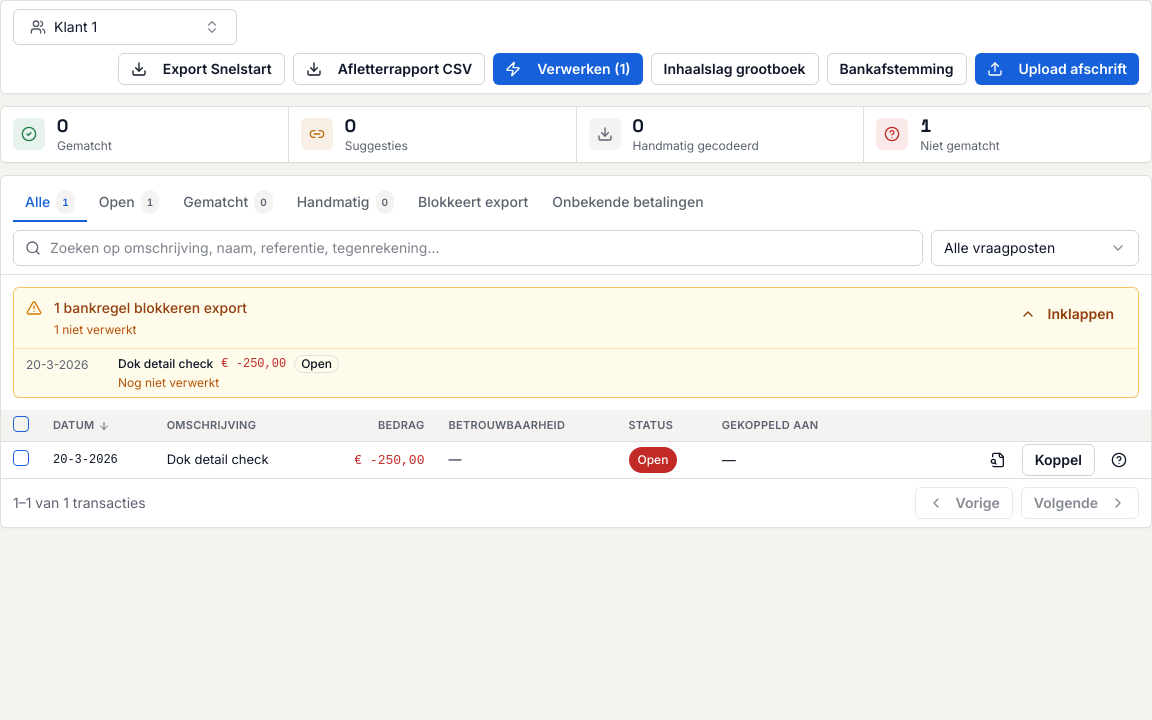
Test: Bank pagina UI — brede desktop (>= 1800px) gebruikt ook de detail-Sheet › toont geen vast dok en opent de transactiedetails in de Sheet
This screenshot has width=1152, height=720.
Step 1. Click the row "20-3-2026 Dok detail check € -250,00 — Open — Koppel" → [85, 460], box [1,442,1151,478]
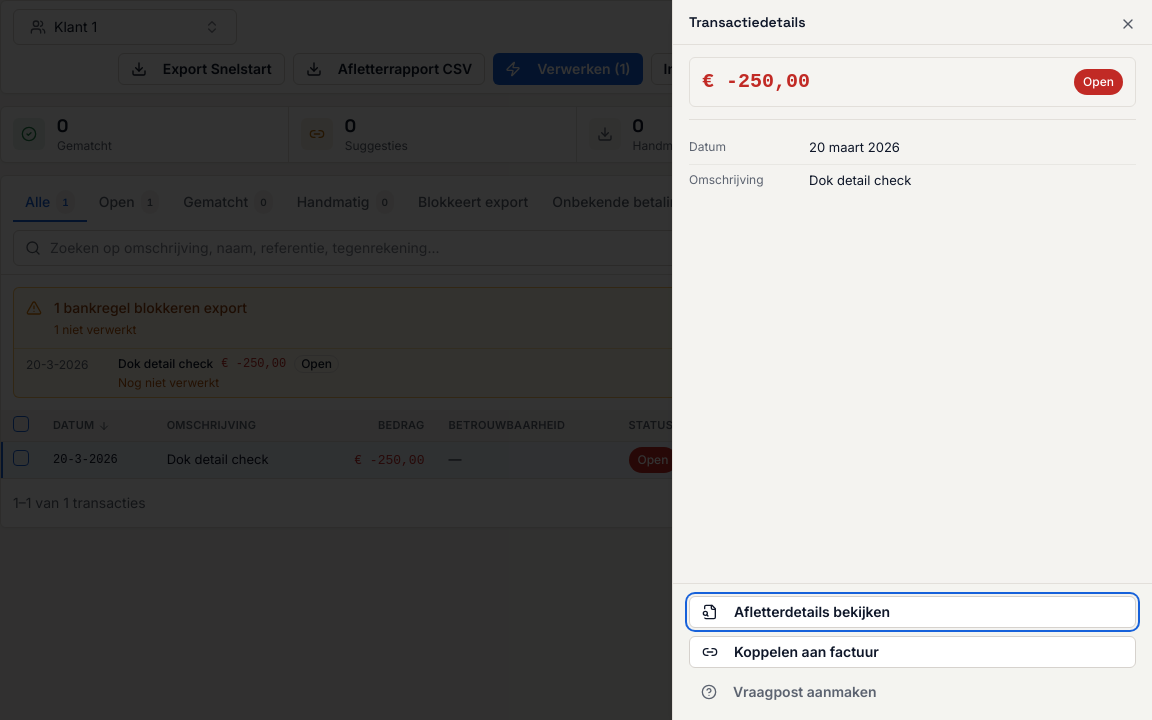
Expected: the heading "Transactiedetails" is shown, [689,13,806,31]
Expected: the text "20 maart 2026" is shown, [809,139,900,155]
Expected: the button "Afletterdetails bekijken" is shown, [689,596,1136,628]
